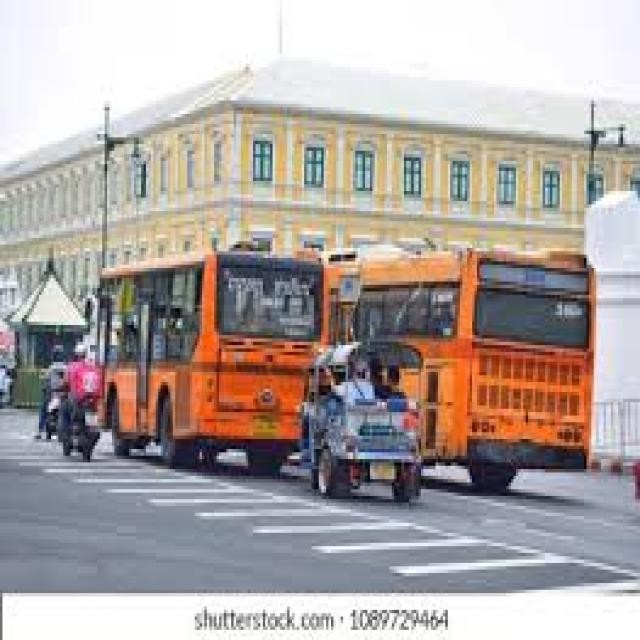bodaboda: (64, 382, 108, 464)
bus: (445, 225, 616, 521), (114, 224, 308, 481)
tuktuk: (314, 356, 442, 504)
